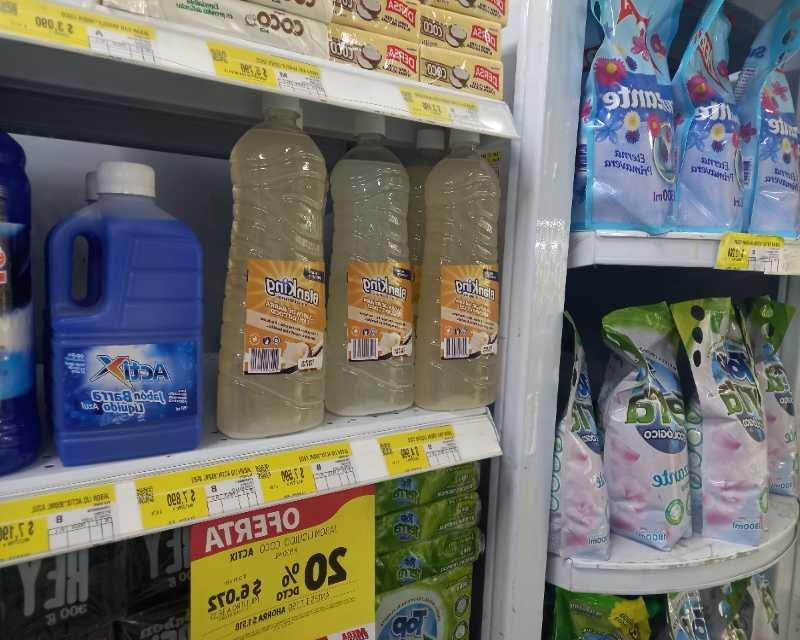ACTIX-AZUL-BOTELLA-950_1: (41, 157, 212, 462)
